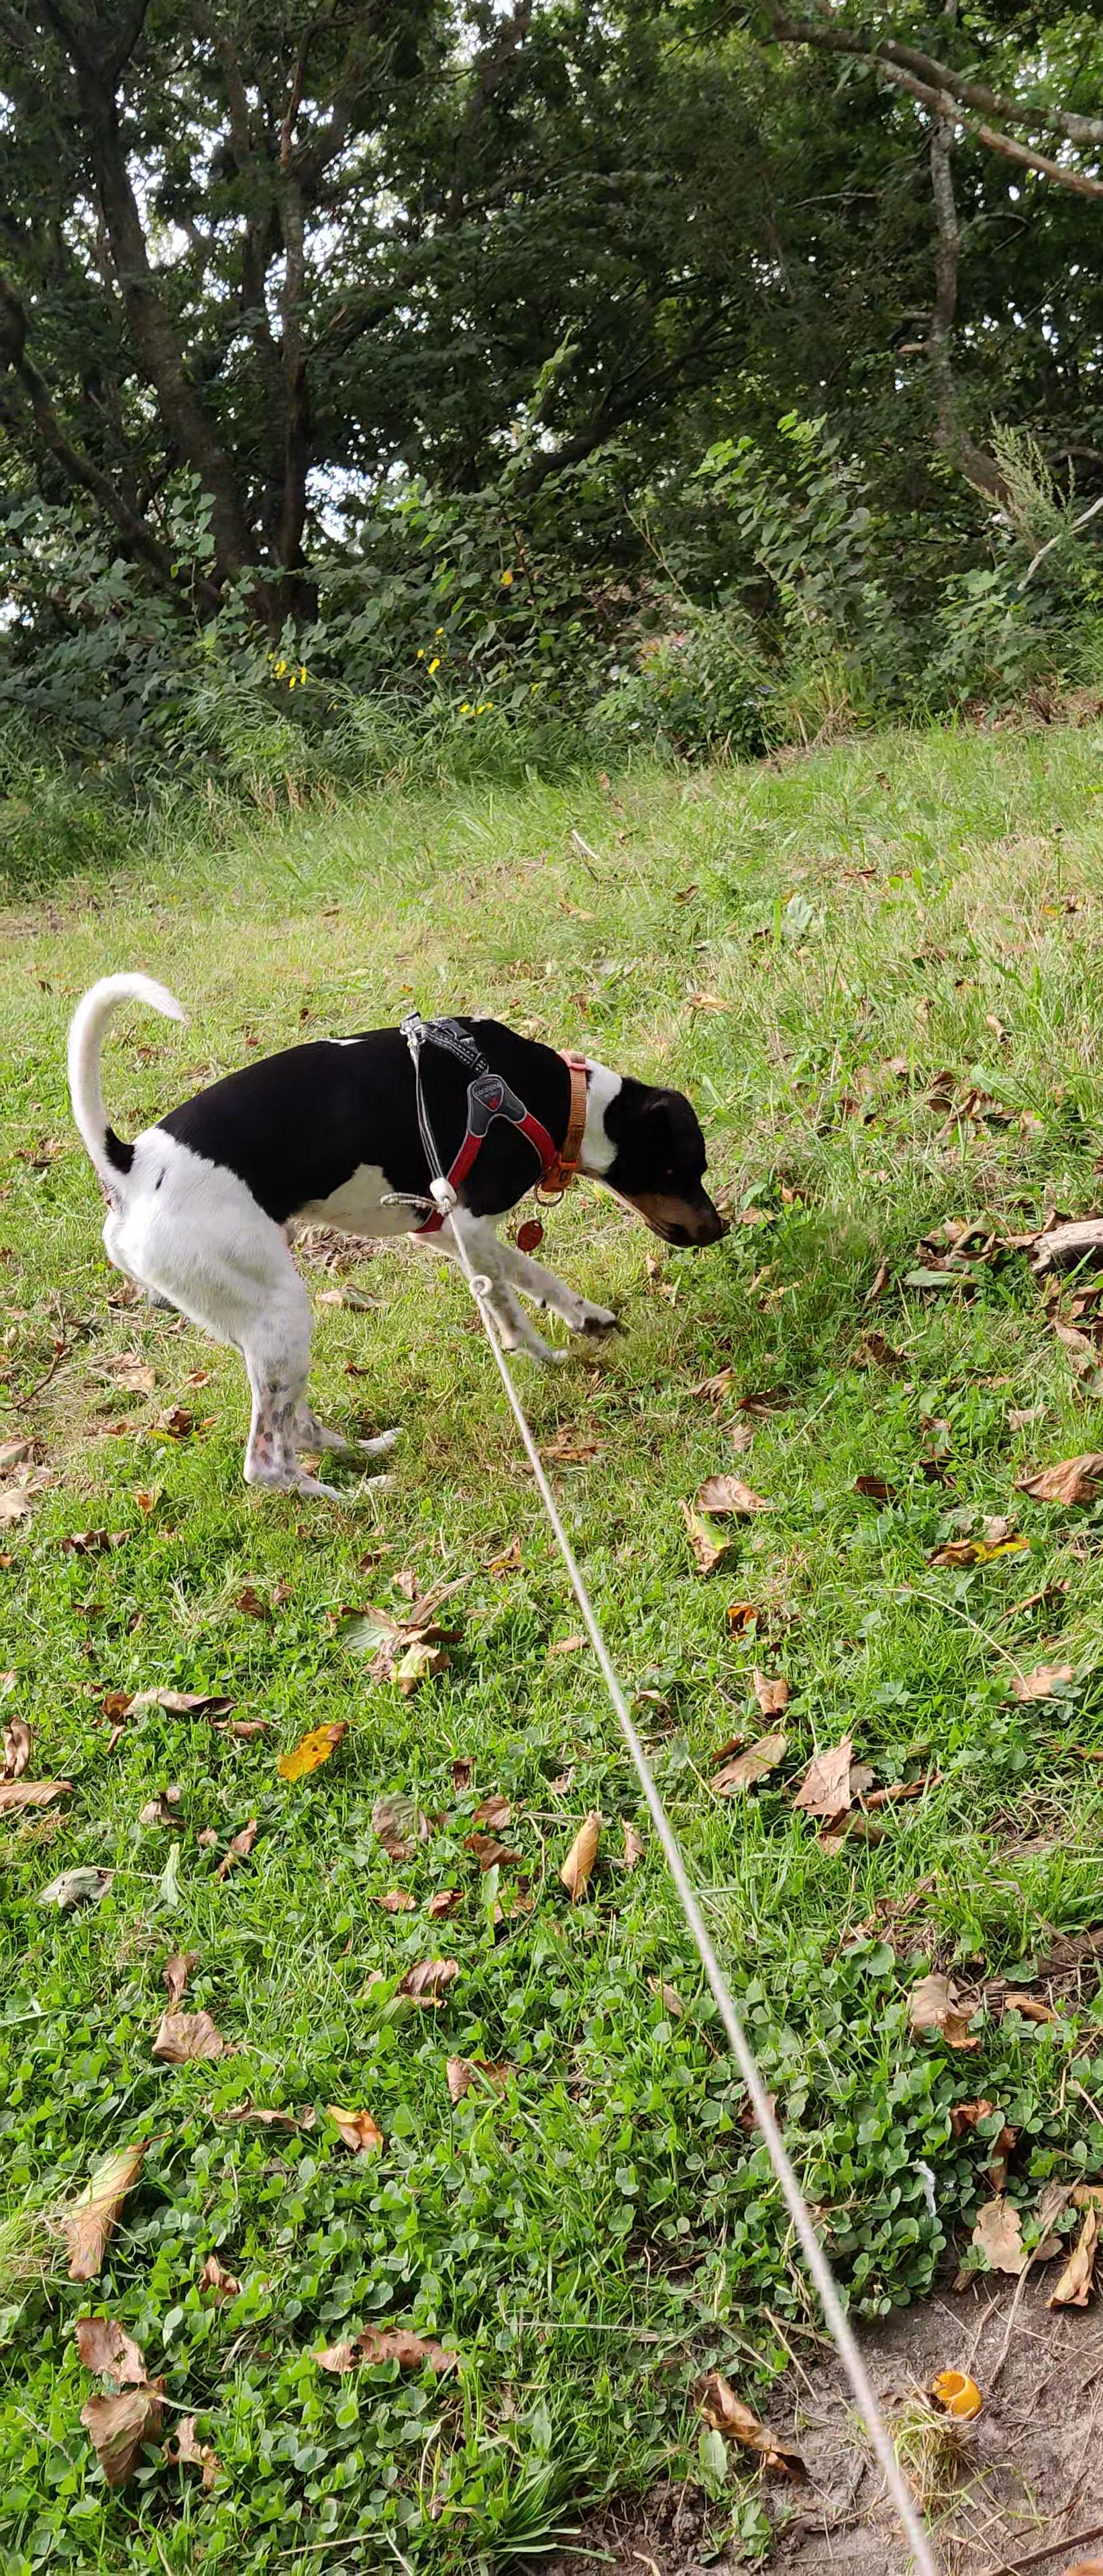Dog: (43, 953, 755, 1508)
